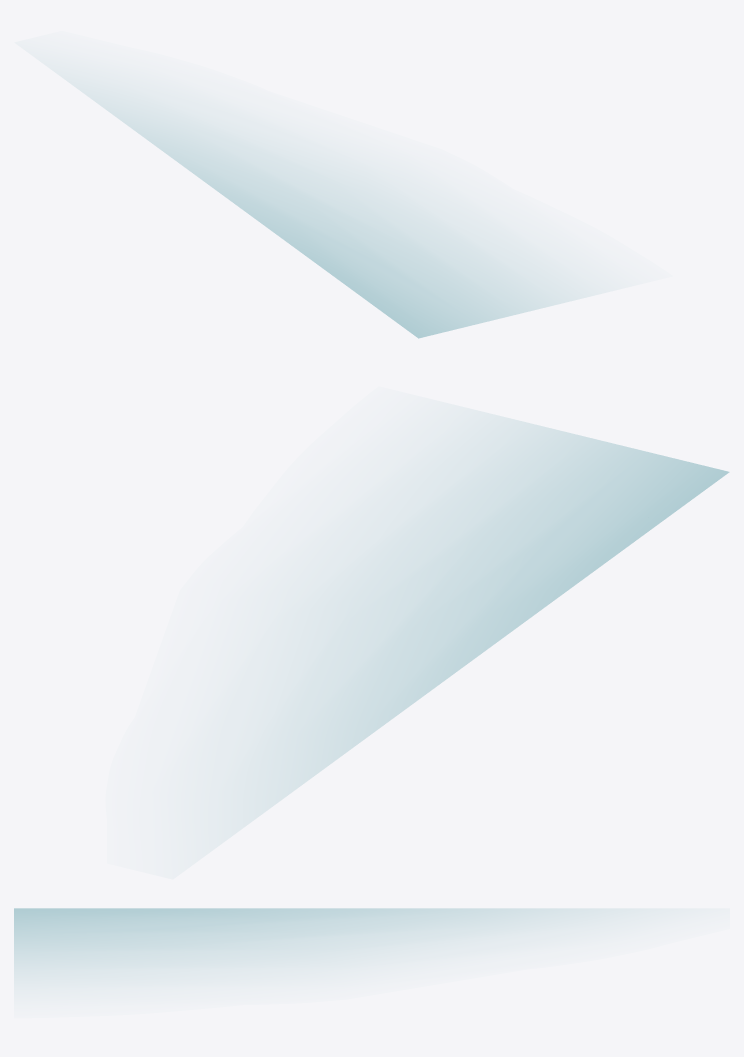
3 renders of one model, top to bottom at view 1: azimuth 30°, elevation 25°; view 2: azimuth 150°, elevation 25°; view 3: azimuth 270°, elevation 25°, orthographic. The views are drawn at different scales.
Visible parts, largest first — view 1: city; view 2: city; view 3: city.
Part boxes in pixels (x1,y1,x2,y2): city: (63, 77, 588, 338); city: (237, 415, 729, 831); city: (14, 908, 641, 982).
Size of the model in its own units: 222 by 0 by 500.
